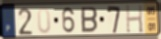0: (36, 6, 52, 35)
2: (17, 6, 34, 37)
6: (61, 7, 76, 35)
7: (107, 4, 122, 34)
B: (80, 6, 99, 35)
H: (125, 4, 145, 34)
